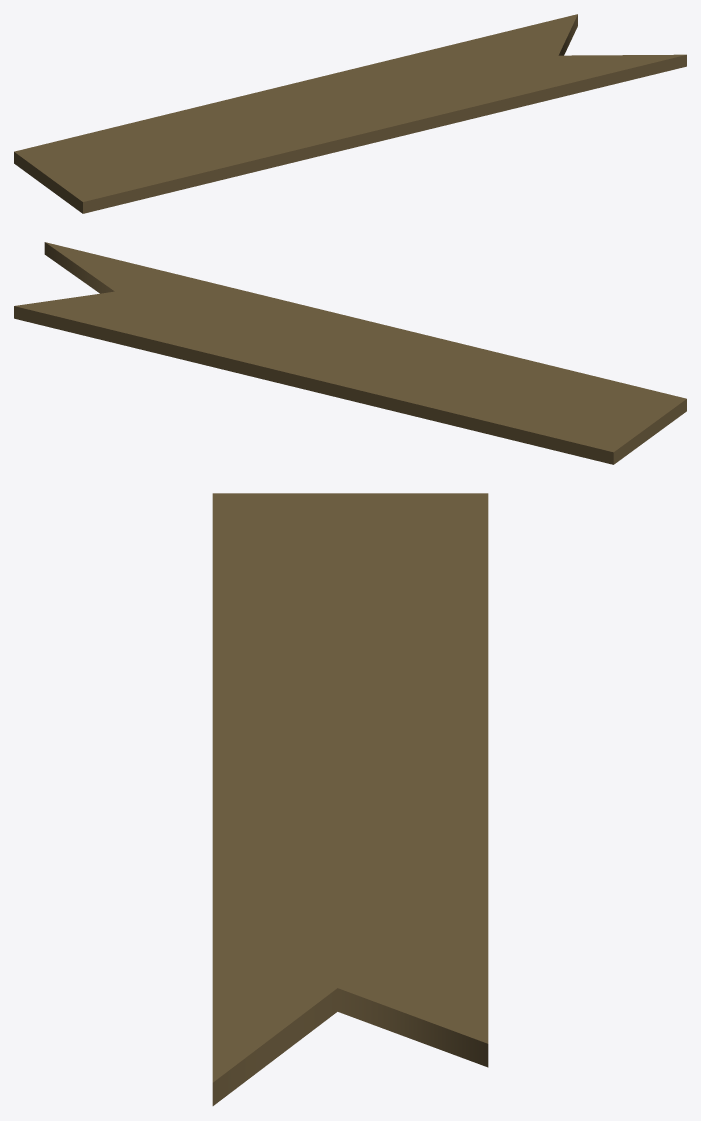
The model's file is Wood2.1.fbx.
3 views of the same model, one above another, from view 1: azimuth 30°, elevation 25°; view 2: azimuth 150°, elevation 25°; view 3: azimuth 270°, elevation 25° (orthographic). The views are drawn at different scales.
Parts seen in each view (by area): view 1: polySurface33; view 2: polySurface33; view 3: polySurface33.
Part boxes in pixels (x1,y1,x2,y2): polySurface33: [14, 14, 686, 213]; polySurface33: [14, 242, 686, 464]; polySurface33: [212, 493, 488, 1105].
Size of the model in its own units: 8.03 by 0.1503 by 1.59.
